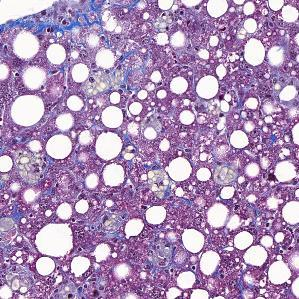fibrosis: (33, 7, 108, 37)
